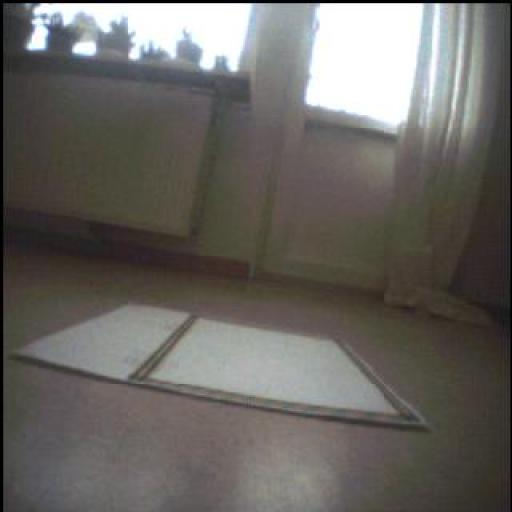Pad: (16, 305, 427, 428)
